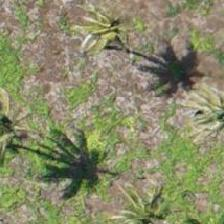coconut_tree: (73, 0, 163, 78), (106, 177, 196, 223)
